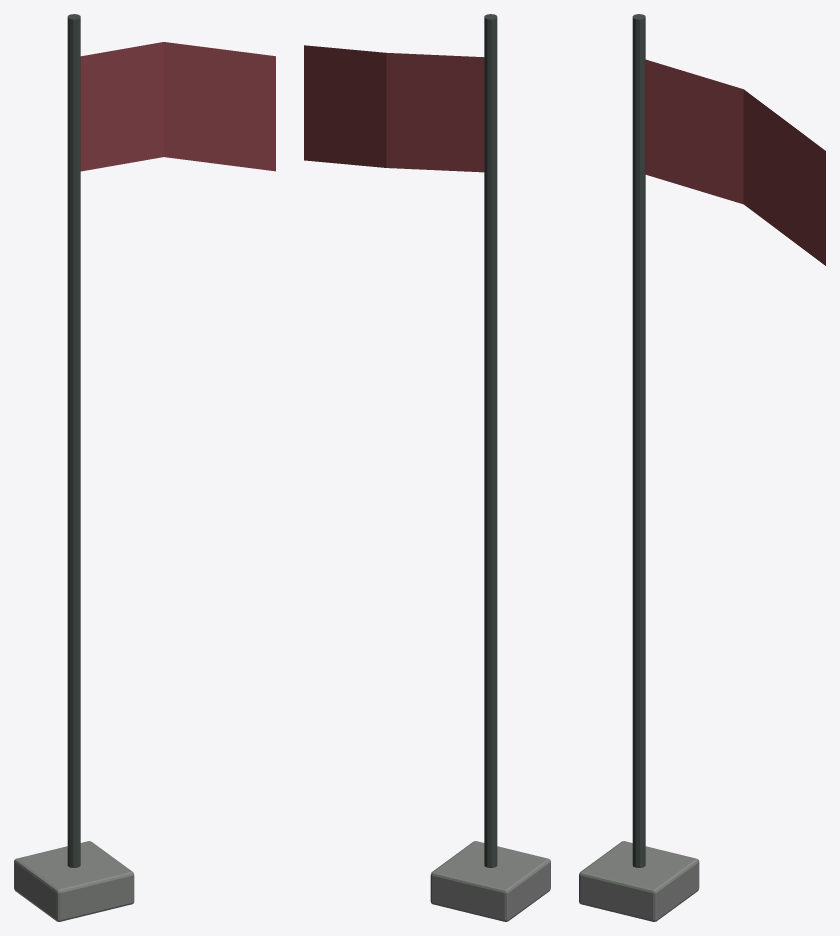
Rendered from blank_flagpole_review.glb.
The picture shows the model from 3 angles, left to right: view 1: azimuth 30°, elevation 25°; view 2: azimuth 150°, elevation 25°; view 3: azimuth 330°, elevation 25°; orthographic projection.
Visible parts, largest first — view 1: blank_flagpole_review; view 2: blank_flagpole_review; view 3: blank_flagpole_review.
Part boxes in pixels (left/top/right/bottom): blank_flagpole_review: left=14, top=14, right=275, bottom=921; blank_flagpole_review: left=304, top=14, right=550, bottom=921; blank_flagpole_review: left=579, top=14, right=825, bottom=921.
Bounding box in the file's own units: 1.8 × 6.5 × 0.6.
